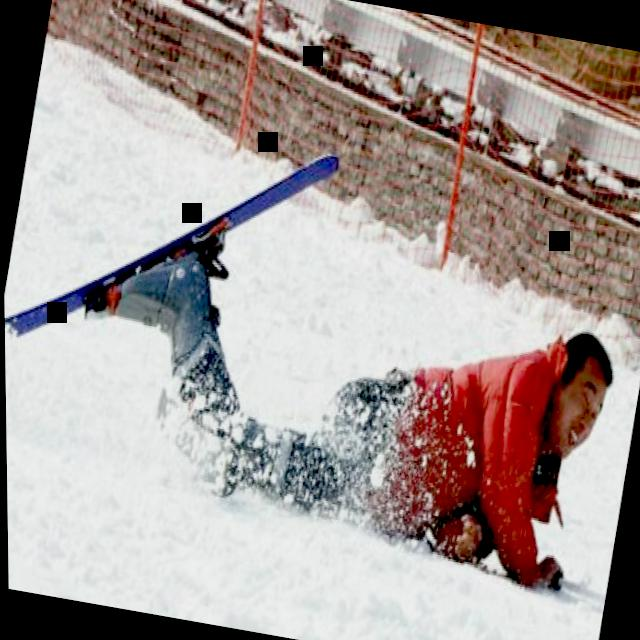Fall-Detected: (12, 187, 640, 616)
